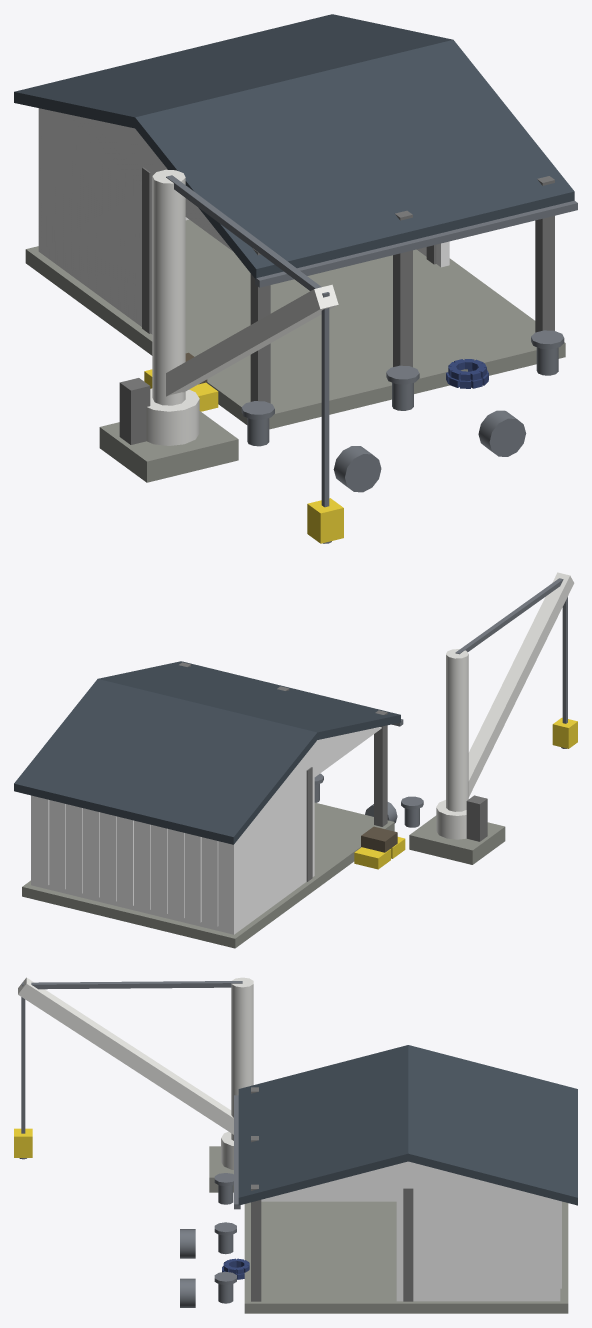
The model's file is port_crane_close.fbx.
The picture shows the model from 3 angles, top to bottom: view 1: azimuth 30°, elevation 25°; view 2: azimuth 150°, elevation 25°; view 3: azimuth 270°, elevation 25°; orthographic projection. The views are drawn at different scales.
Visible parts, largest first — view 1: a1001_0_port_crane_close; view 2: a1001_0_port_crane_close; view 3: a1001_0_port_crane_close.
Boxes of the visible parts, x1,y1,x2,y2 form: a1001_0_port_crane_close: (14,14,577,543); a1001_0_port_crane_close: (14,572,577,948); a1001_0_port_crane_close: (14,977,577,1313).
Bounding box in the file's own units: 9.3 × 6.38 × 14.46.
